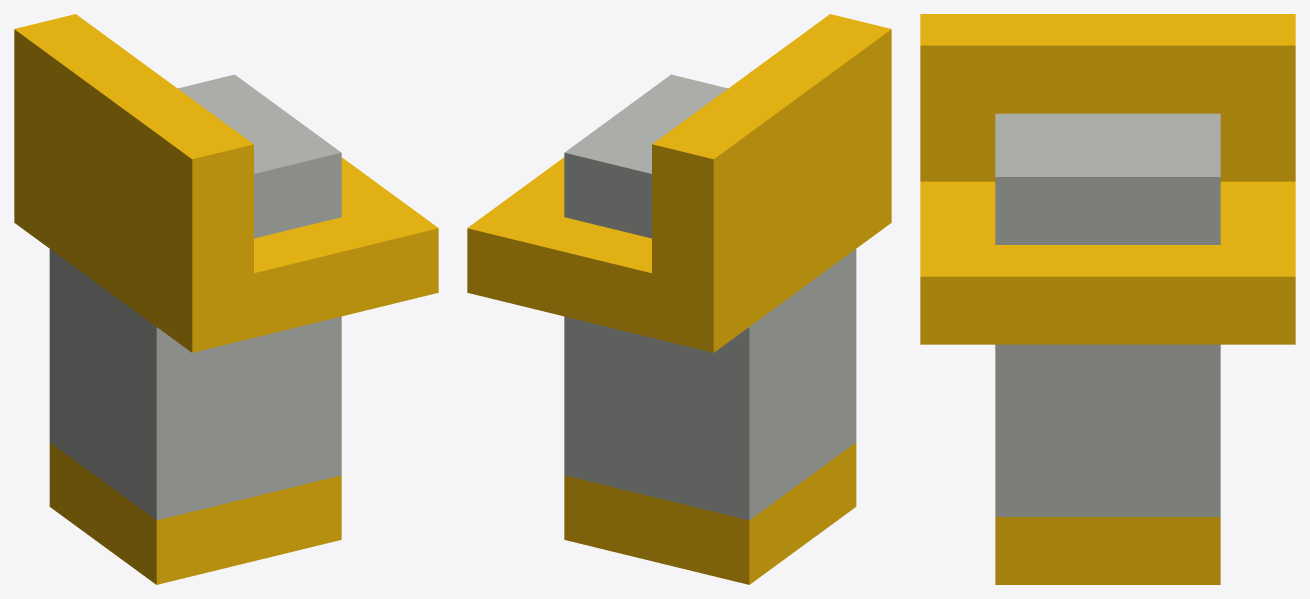
File: Shoulder.L.fbx
3 views of the same model, side by side, from view 1: azimuth 30°, elevation 25°; view 2: azimuth 150°, elevation 25°; view 3: azimuth 270°, elevation 25° (orthographic). The views are drawn at different scales.
Parts seen in each view (by area): view 1: Shoulder.L.001; view 2: Shoulder.L.001; view 3: Shoulder.L.001.
Part boxes in pixels (x1,y1,x2,y2): Shoulder.L.001: (14, 14, 438, 584); Shoulder.L.001: (467, 14, 891, 584); Shoulder.L.001: (920, 14, 1295, 584).
Size of the model in its own units: 0.4 by 0.7 by 0.5.
Materials: 1 (1 with a texture image).
